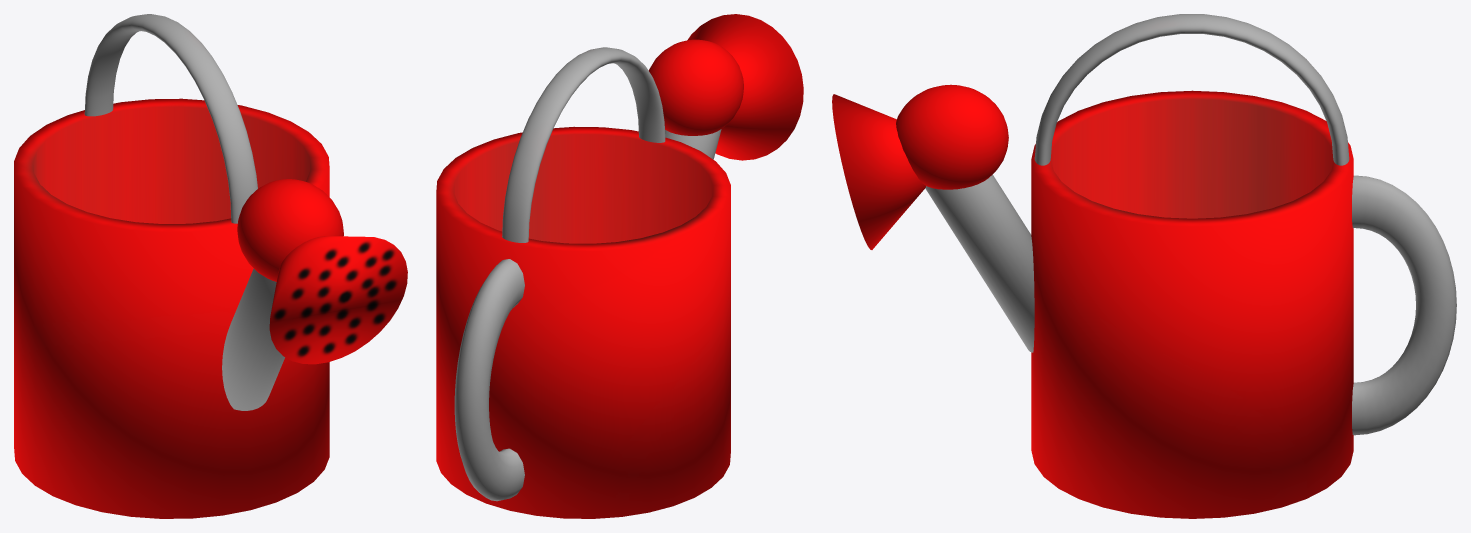
Rendered from WateringPail.fbx.
3 views of the same model, side by side, from view 1: azimuth 30°, elevation 25°; view 2: azimuth 150°, elevation 25°; view 3: azimuth 270°, elevation 25° (orthographic). The views are drawn at different scales.
Parts seen in each view (by area): view 1: Torus; view 2: Torus; view 3: Torus.
Boxes of the visible parts, box(x1,y1,x2,y2) form: Torus: box(14, 14, 407, 518); Torus: box(436, 14, 803, 518); Torus: box(832, 14, 1456, 518).
Size of the model in its own units: 200 by 297 by 388.
Materials: 1 (1 with a texture image).
